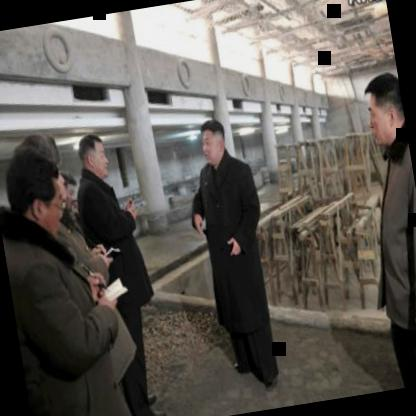head: (0, 131, 77, 244), (356, 67, 409, 153), (73, 128, 111, 186), (194, 115, 232, 170)
